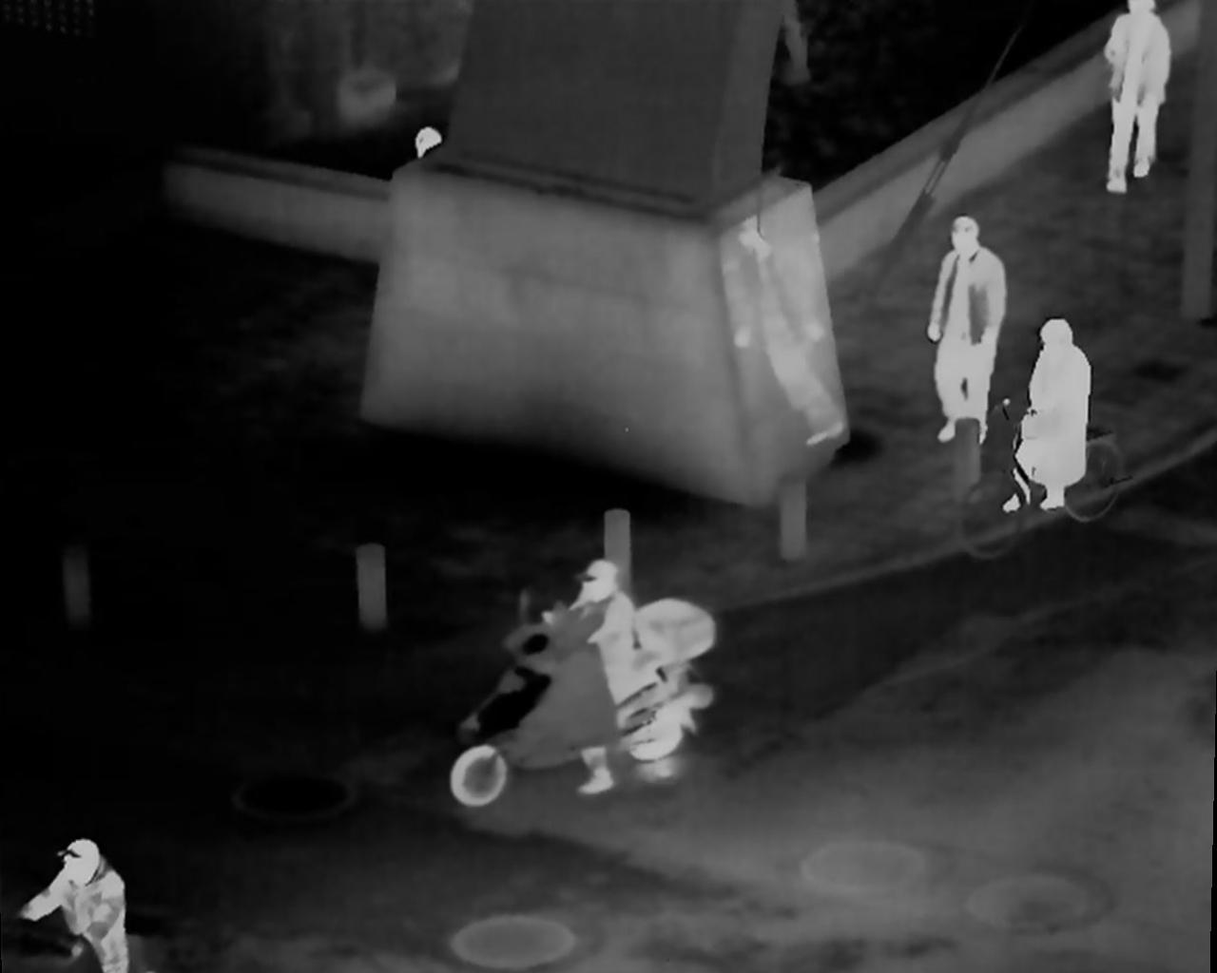person: (549, 554, 668, 787), (917, 210, 999, 449), (1008, 319, 1092, 510), (21, 845, 129, 963)
